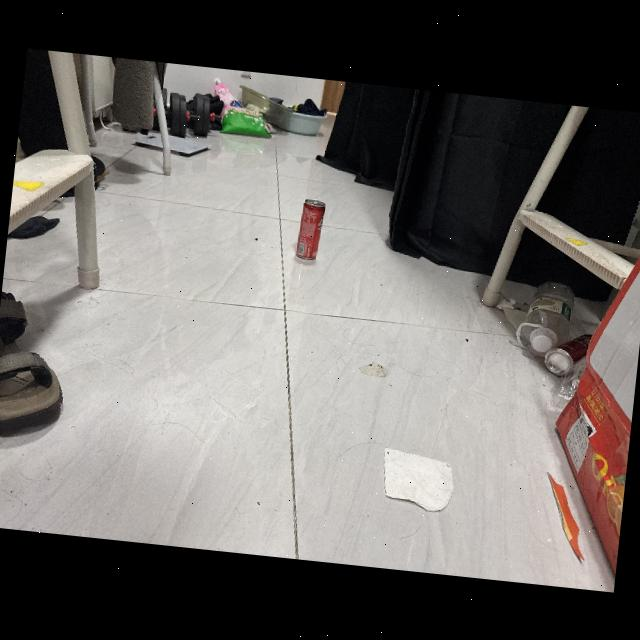Cola: (290, 194, 338, 268)
